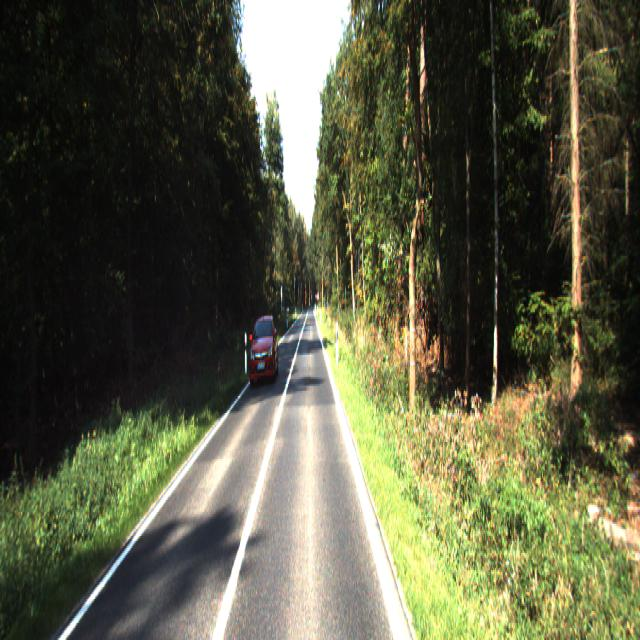Car: (248, 315, 279, 388)
